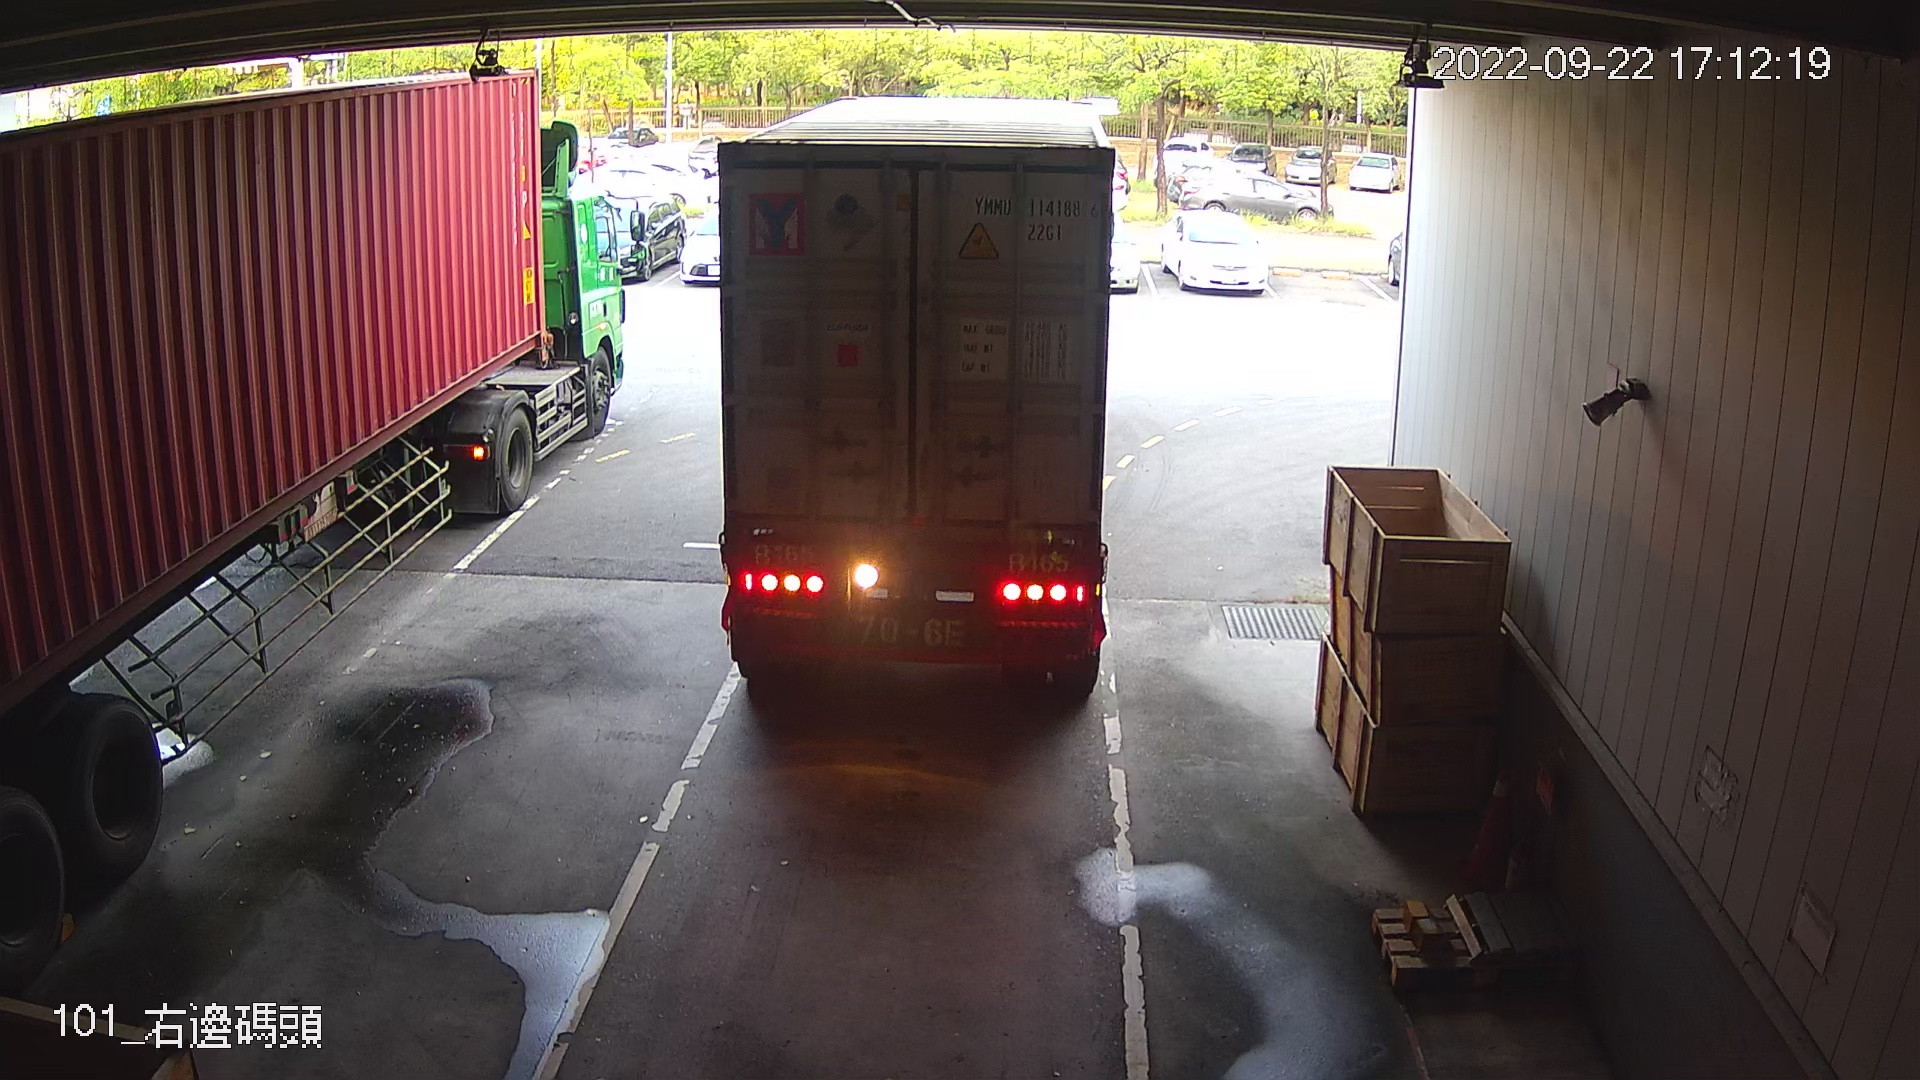container: (963, 186, 1106, 249)
